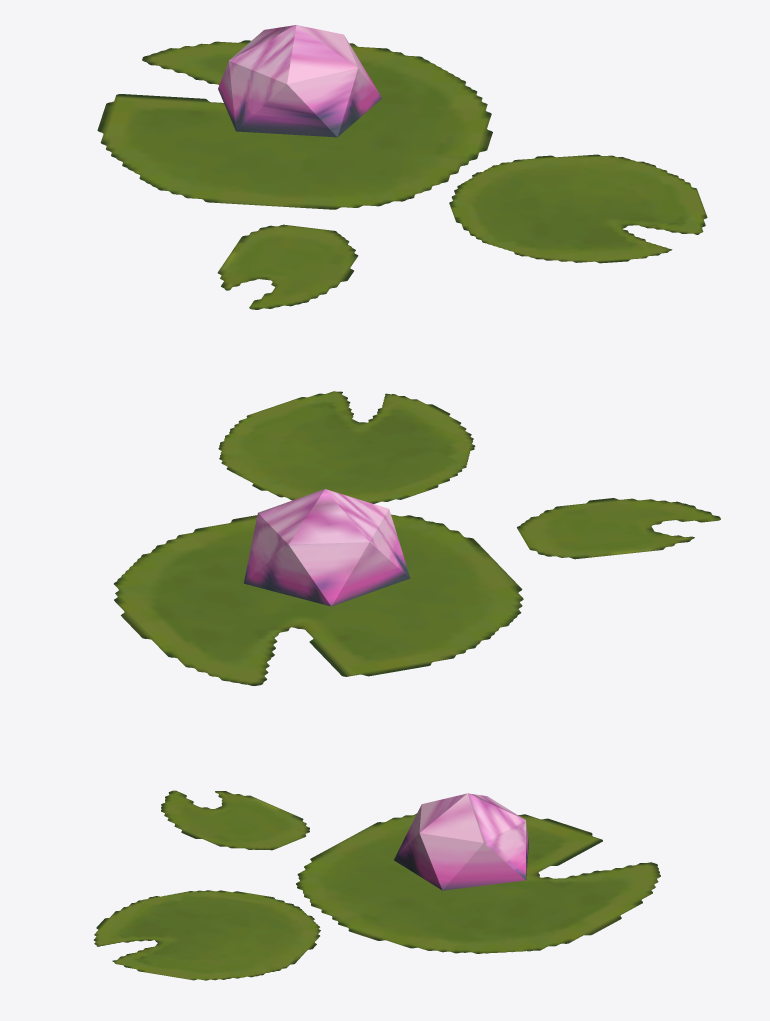
Rendered from lilypad_06.fbx.
The picture shows the model from 3 angles, top to bottom: view 1: azimuth 30°, elevation 25°; view 2: azimuth 150°, elevation 25°; view 3: azimuth 270°, elevation 25°; orthographic projection. The views are drawn at different scales.
Visible parts, largest first — view 1: obj0.109; view 2: obj0.109; view 3: obj0.109.
Part boxes in pixels (x1=…): obj0.109: x1=97, y1=25, x2=707, y2=309; obj0.109: x1=114, y1=391, x2=720, y2=685; obj0.109: x1=94, y1=790, x2=660, y2=980.
Bounding box in the file's own units: 1.43 × 0.2352 × 1.8.
